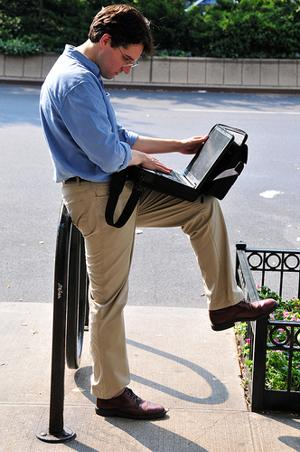person: (40, 3, 277, 426)
